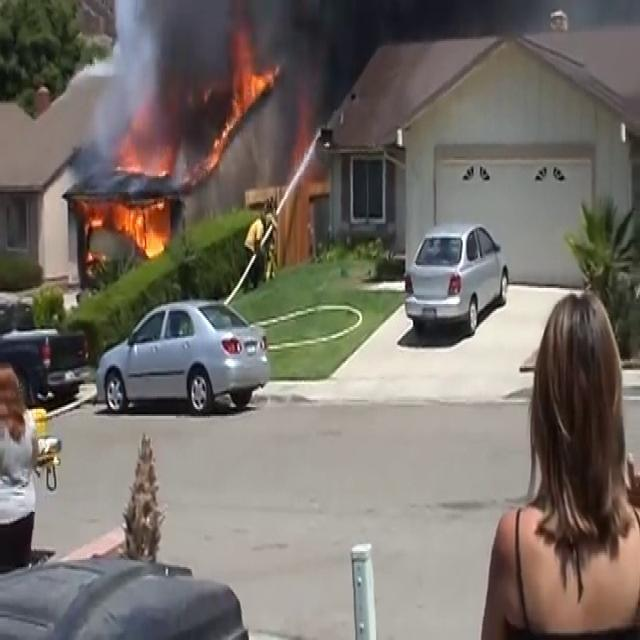Fire: (212, 24, 281, 159), (90, 181, 172, 265)
